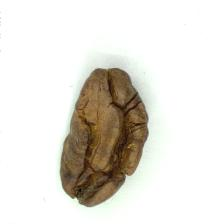NG: (67, 68, 149, 207)
